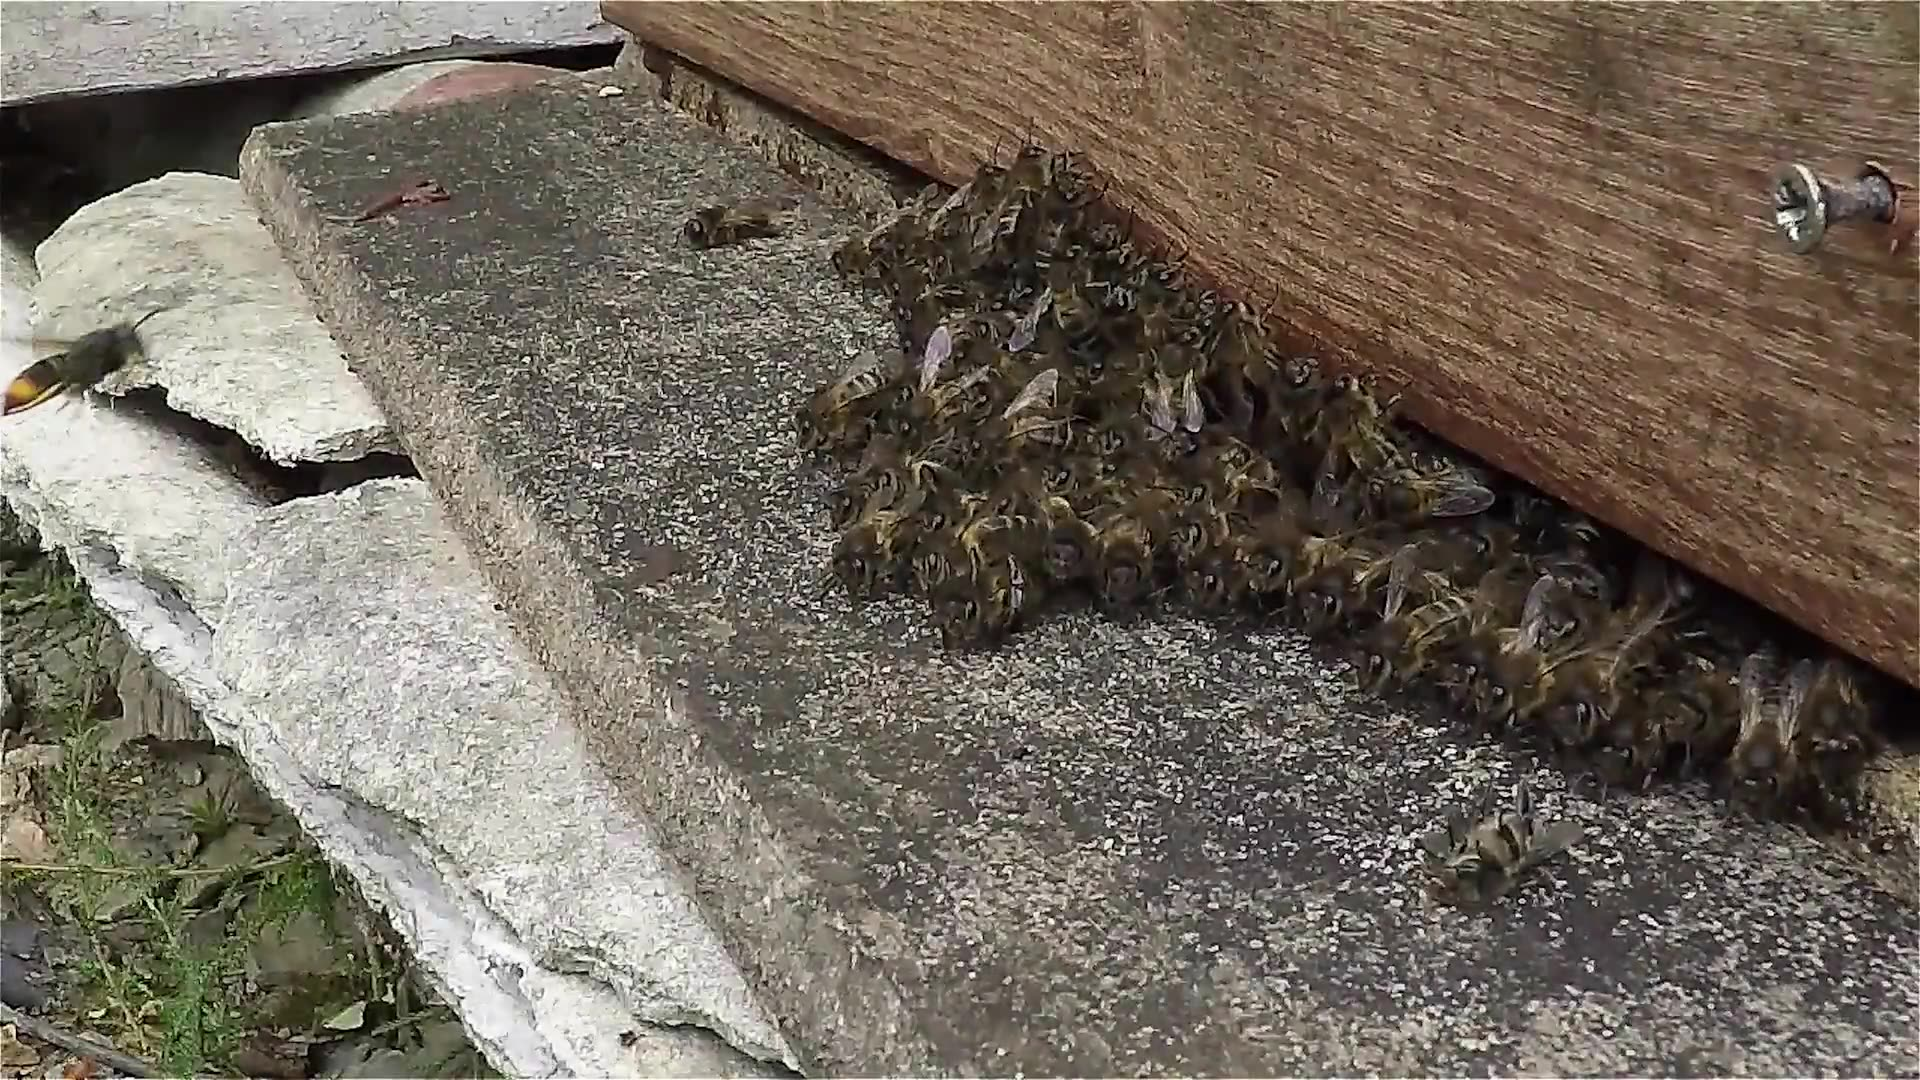bee: (822, 156, 1218, 673), (1437, 458, 1858, 829), (1218, 289, 1437, 683), (1416, 789, 1568, 919), (671, 193, 775, 258)
hornet: (1, 310, 161, 425)
